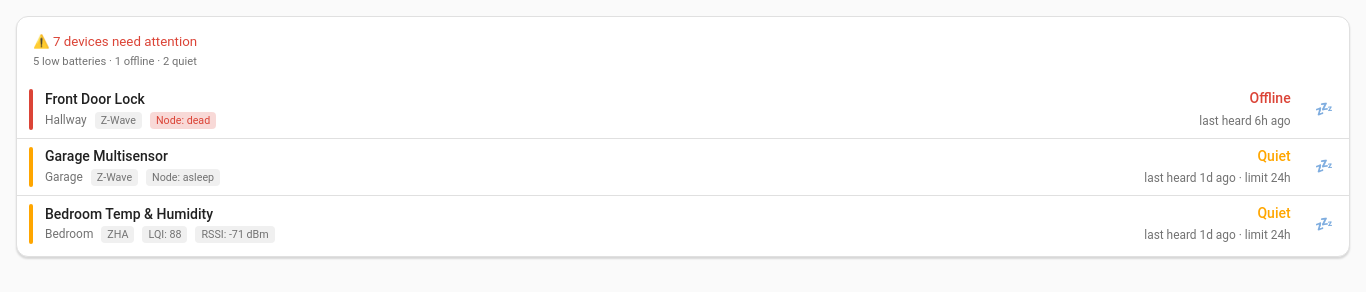
Test case: App, snooze menu keyboard › focuses the first option, moves with the arrow keys and closes on Escape
The width and height of the screenshot is (1366, 292).
Check: the text "⚠️ 7 devices need attention" is shown, box left=33, top=33, right=197, bottom=52
Click the button named "Snooze Front Door Lock" at (1324, 109), box left=1307, top=94, right=1341, bottom=125
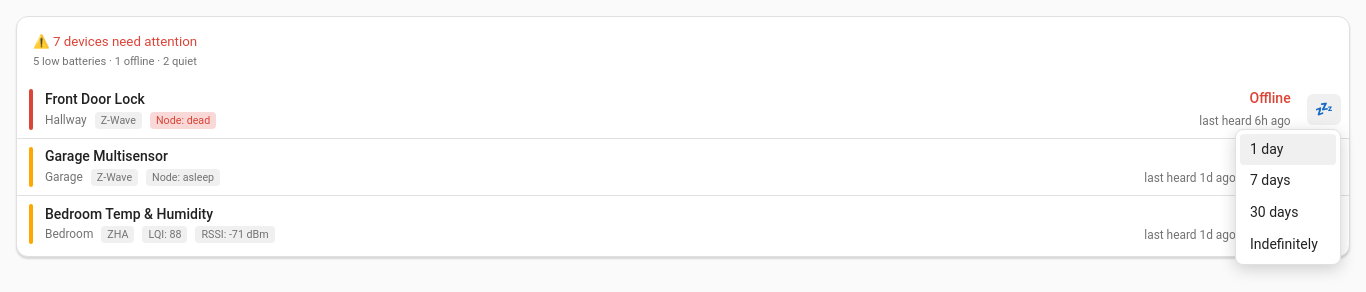
Press Arrowdown
Press End
Press Arrowdown
Press Arrowup
Press Escape
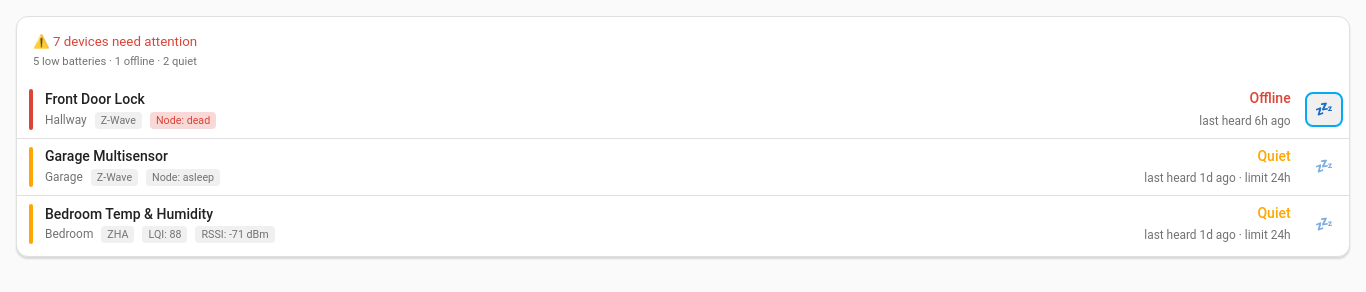
Check: the menu is gone
